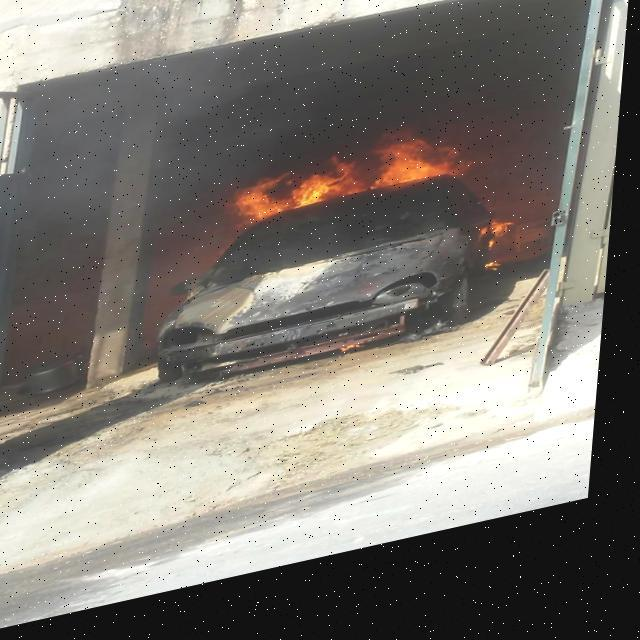Fire: (231, 130, 478, 240), (486, 234, 534, 271)
